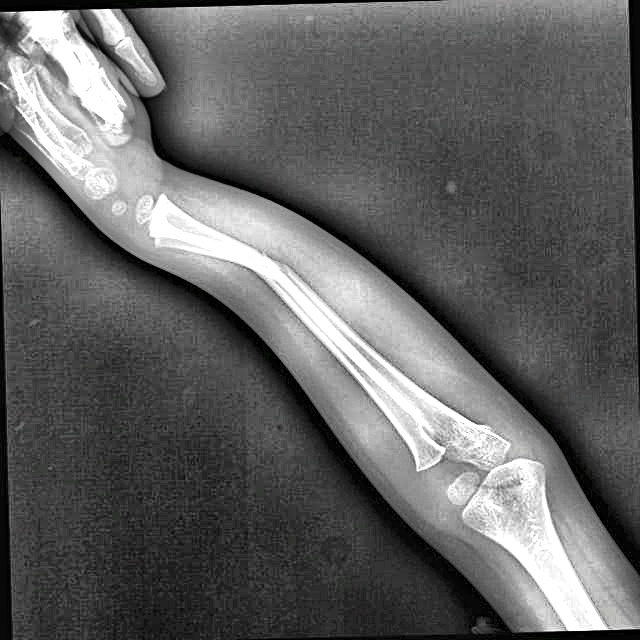Spiral: (249, 241, 310, 321)
